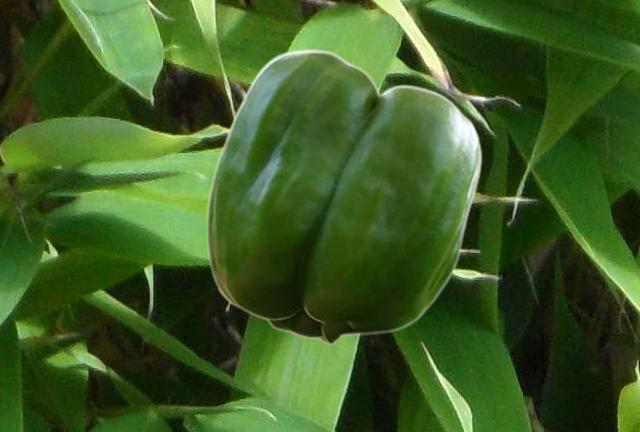bell_pepper: (205, 48, 481, 344)
